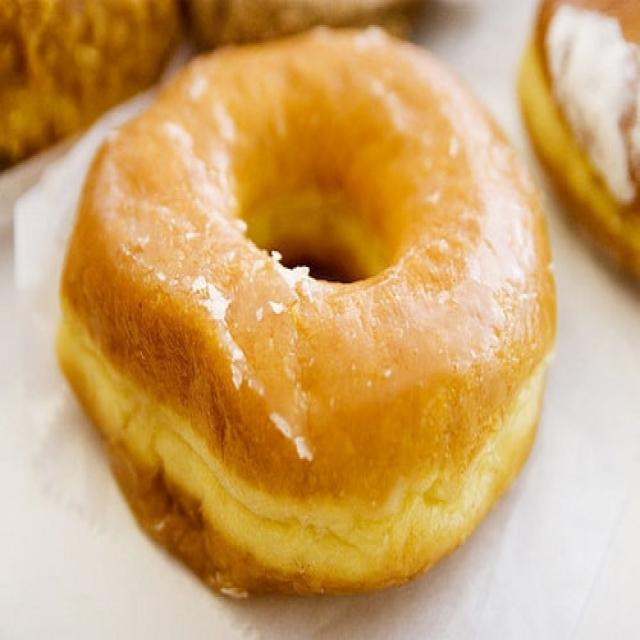炸货点心: (29, 39, 610, 615)
